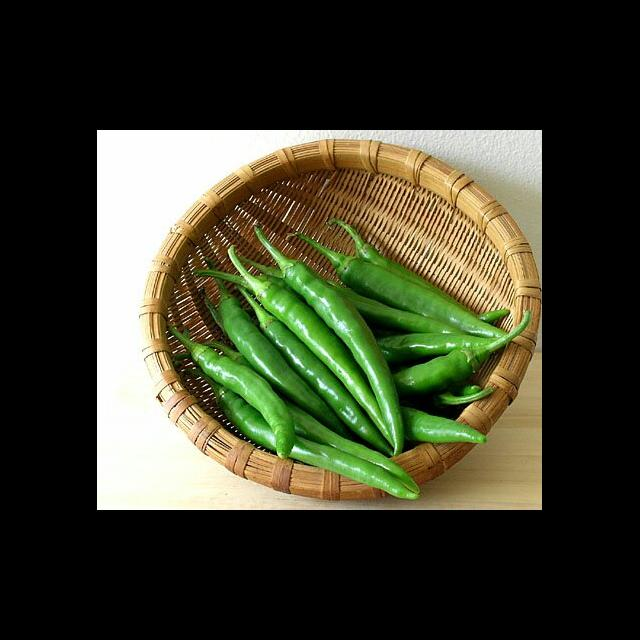chili_pepper: (257, 225, 406, 454), (228, 246, 386, 430), (298, 234, 506, 338), (220, 287, 340, 426), (170, 327, 296, 458), (379, 333, 498, 364)
